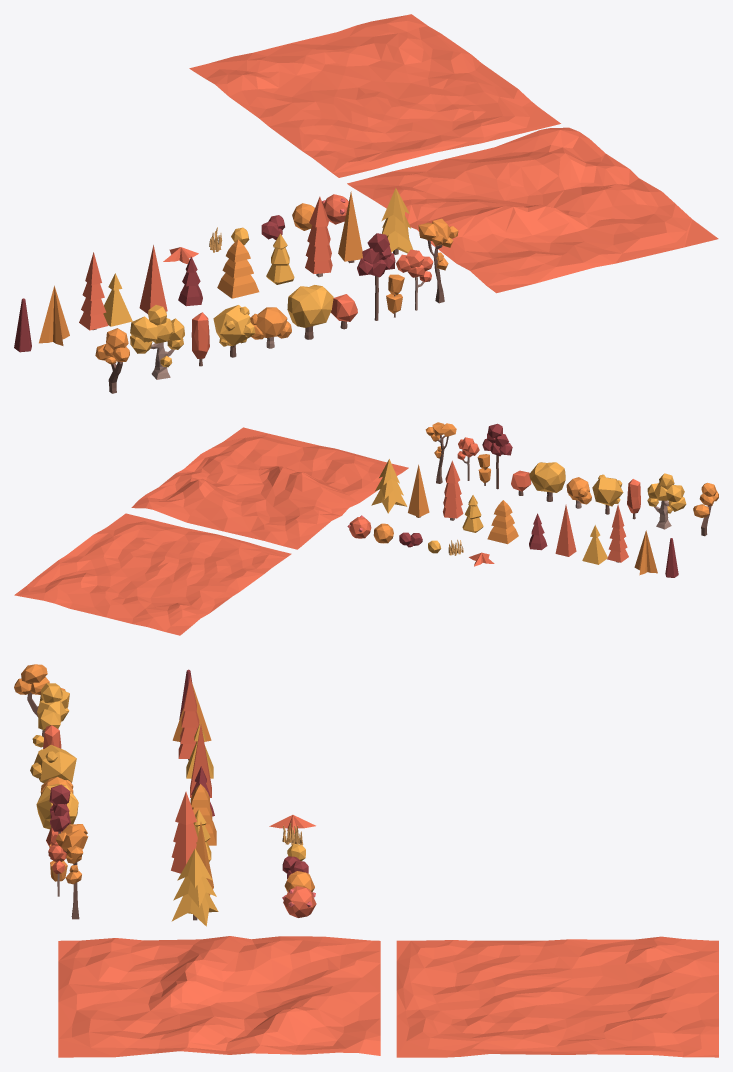
File: autumn_pack.fbx
3 renders of one model, top to bottom at view 1: azimuth 30°, elevation 25°; view 2: azimuth 150°, elevation 25°; view 3: azimuth 270°, elevation 25°, orthographic. The views are drawn at different scales.
Parts seen in each view (by area): view 1: plane, tree_2, grass, tree_6, ctree_7, ctree_9, tree_4, tree_8, ctree_3, tree_11, ctree_11, tree_1 (+11 smaller); view 2: plane, grass, tree_2, tree_6, ctree_11, ctree_7, ctree_9, tree_4, tree_8, ctree_3, tree_11, tree_1 (+11 smaller); view 3: plane, grass, ctree_11, ctree_9, tree_11, tree_2, tree_4, ctree_3, tree_1, tree_8, tree_6, ctree_7 (+1 smaller).
Boxes of the visible parts, x1,y1,x2,y2 form: plane: (189, 14, 718, 293); tree_2: (130, 305, 184, 379); grass: (163, 194, 348, 264); tree_6: (287, 285, 333, 339); ctree_7: (217, 239, 259, 298); ctree_9: (305, 196, 332, 277); tree_4: (213, 305, 255, 357); tree_8: (357, 233, 395, 320); ctree_3: (79, 252, 108, 330); tree_11: (418, 218, 458, 303); ctree_11: (381, 188, 413, 254); tree_1: (95, 328, 129, 393); plane: (14, 427, 408, 635); grass: (347, 515, 494, 566); tree_2: (647, 473, 686, 529); tree_6: (529, 462, 565, 501); ctree_11: (371, 459, 407, 513); ctree_7: (487, 500, 518, 544); ctree_9: (443, 460, 463, 520); tree_4: (592, 474, 623, 514); tree_8: (482, 423, 512, 489); ctree_3: (607, 504, 628, 562); tree_11: (425, 422, 456, 483); tree_1: (693, 482, 718, 536); plane: (58, 936, 718, 1057); grass: (269, 815, 316, 917); ctree_11: (171, 848, 218, 926); ctree_9: (171, 791, 197, 873); tree_11: (55, 824, 88, 919); tree_2: (32, 683, 69, 747); tree_4: (30, 745, 76, 783); ctree_3: (178, 676, 199, 760); tree_1: (14, 664, 65, 737); tree_8: (49, 784, 70, 833); tree_6: (36, 784, 78, 829); ctree_7: (190, 784, 216, 845).
Size of the model in its own units: 7172 by 968 by 6341.
